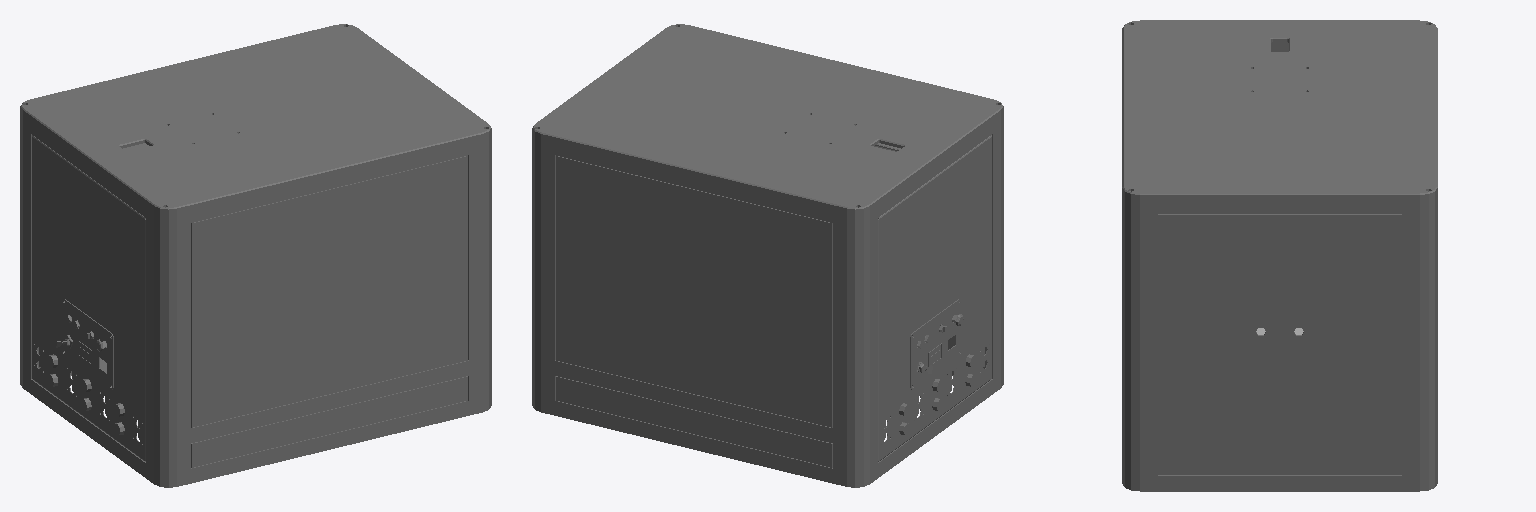
robot.urdf — AGV:
<?xml version="1.0" ?>
<robot name="AGV" xmlns:xacro="http://ros.org/wiki/xacro">

  <!-- This first link called "world" is empty -->
  <!-- <link name="world"></link>
  <joint name="base_joint" type="fixed">
      <origin xyz="0 0 0" rpy="1.5708 0 -1.5708"/>
      <parent link="world"/>
      <child link="base_link"/>        
  </joint> -->

  <!--base link-->
  <link name="base_link">
    <visual>
      <origin xyz="0 0 0.3" rpy="1.5708 0 -1.5708"/>
      <geometry>
        <mesh filename="package://scl_amr/meshes/amr_scl.stl" scale="1 1 1"/>
      </geometry>
      <material name="gray">
           <color rgba="0.5 0.5 0.5 1"/>
      </material>
    </visual>
  </link>
  
  <!--front laser link-->
  <joint name="front_laser_joint" type="fixed">
    <parent link="base_link"/>
    <child link="front_laser_link" />
    <origin xyz="0.35 0.27 0.15" rpy="0 0 0.785"/>
  </joint>
  <link name="front_laser_link">
    <visual>
      <origin xyz="0 0 0" rpy="1.57 0 0"/>
      <geometry>
        <mesh filename="package://scl_amr/meshes/laser_scan.stl" scale="0.01 0.01 0.01"/>
      </geometry>
      <material name="white">
           <color rgba="1 1 1 1"/>
      </material>
    </visual>
  </link>
  
  <!--back laser link-->
  <joint name="back_laser_joint" type="fixed">
    <parent link="base_link"/>
    <child link="back_laser_link" />
    <origin xyz="-0.35 -0.27 0.15" rpy="0 0 3.925"/>
  </joint>
  <link name="back_laser_link">
    <visual>
      <origin xyz="0 0 0" rpy="1.57 0 0"/>
      <geometry>
        <mesh filename="package://scl_amr/meshes/laser_scan.stl" scale="0.01 0.01 0.01"/>
      </geometry>
      <material name="white">
           <color rgba="1 1 1 1"/>
      </material>
    </visual>
  </link>

  <!--velodyne VLP16 link-->
  <joint name="velodyne" type="fixed">
    <parent link="base_link"/>
    <child link="velodyne" />
    <origin xyz="0.35 0 1.26" rpy="0 0 0"/>
  </joint>
  <link name="velodyne">
    <visual>
      <origin xyz="0 0 0" rpy="0 0 0"/>
      <geometry>
        <mesh filename="package://scl_amr/meshes/sick_tim_5xx.stl" scale="0.01 0.01 0.01"/>
      </geometry>
      <material name="white">
           <color rgba="1 1 1 1"/>
      </material>
    </visual>
  </link>

  <!--IMU link-->
  <joint name="imu_joint" type="fixed">
    <parent link="base_link"/>
    <child link="imu_link" />
    <origin xyz="0.05 0.05 0.32" rpy="0 0 0"/>
  </joint>
  <link name="imu_link">
    <visual>
      <origin xyz="0 0 0" rpy="0 0 0"/>
      <geometry>
        <box size="0.5 0.2 0.1" />
      </geometry>
      <material name="white">
           <color rgba="1 1 1 1"/>
      </material>
    </visual>
  </link>

</robot>

--- Render facts (derived) ---
Views: 3 orthographic renders of the robot side by side, from view 1: azimuth 30°, elevation 25°; view 2: azimuth 150°, elevation 25°; view 3: azimuth 270°, elevation 25°.
Model AGV with 5 links and 4 joints (4 fixed), rooted at base_link, posed all joints at 0.
Links seen in each view (by area): view 1: base_link; view 2: base_link; view 3: base_link.
Boxes of the visible links, x1,y1,x2,y2 form: base_link: [20, 24, 491, 487]; base_link: [532, 24, 1003, 487]; base_link: [1122, 20, 1437, 491].
Size in the robot's own frame: 0.7304 by 0.536 by 0.599 metres.
Meshes: 3 distinct files referenced, 1 mesh visuals loaded (1 binary STL); not drawn: 3 (reference not matched to a file when rendering).